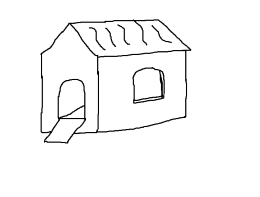door: (53, 73, 89, 124)
open_window: (128, 65, 168, 105)
roof: (34, 19, 194, 61)
wall: (94, 47, 192, 137)
